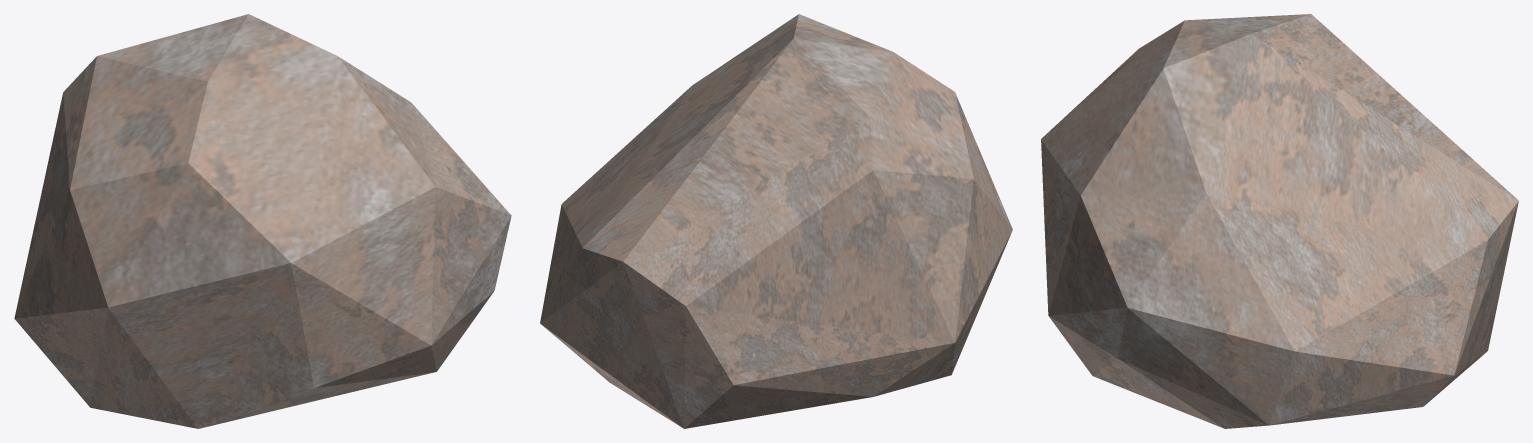
File: stone8.fbx
3 views of the same model, side by side, from view 1: azimuth 30°, elevation 25°; view 2: azimuth 150°, elevation 25°; view 3: azimuth 270°, elevation 25° (orthographic). The views are drawn at different scales.
Parts seen in each view (by area): view 1: Group20467; view 2: Group20467; view 3: Group20467.
Boxes of the visible parts, x1,y1,x2,y2 form: Group20467: (14, 14, 511, 428); Group20467: (540, 14, 1012, 428); Group20467: (1041, 14, 1518, 428).
Size of the model in its own units: 200 by 149 by 201.
